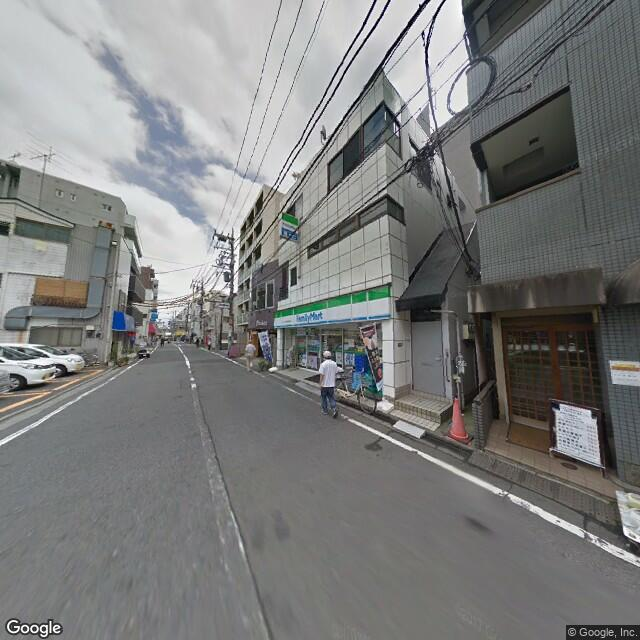family_mart: (271, 281, 395, 331), (279, 206, 301, 245)
